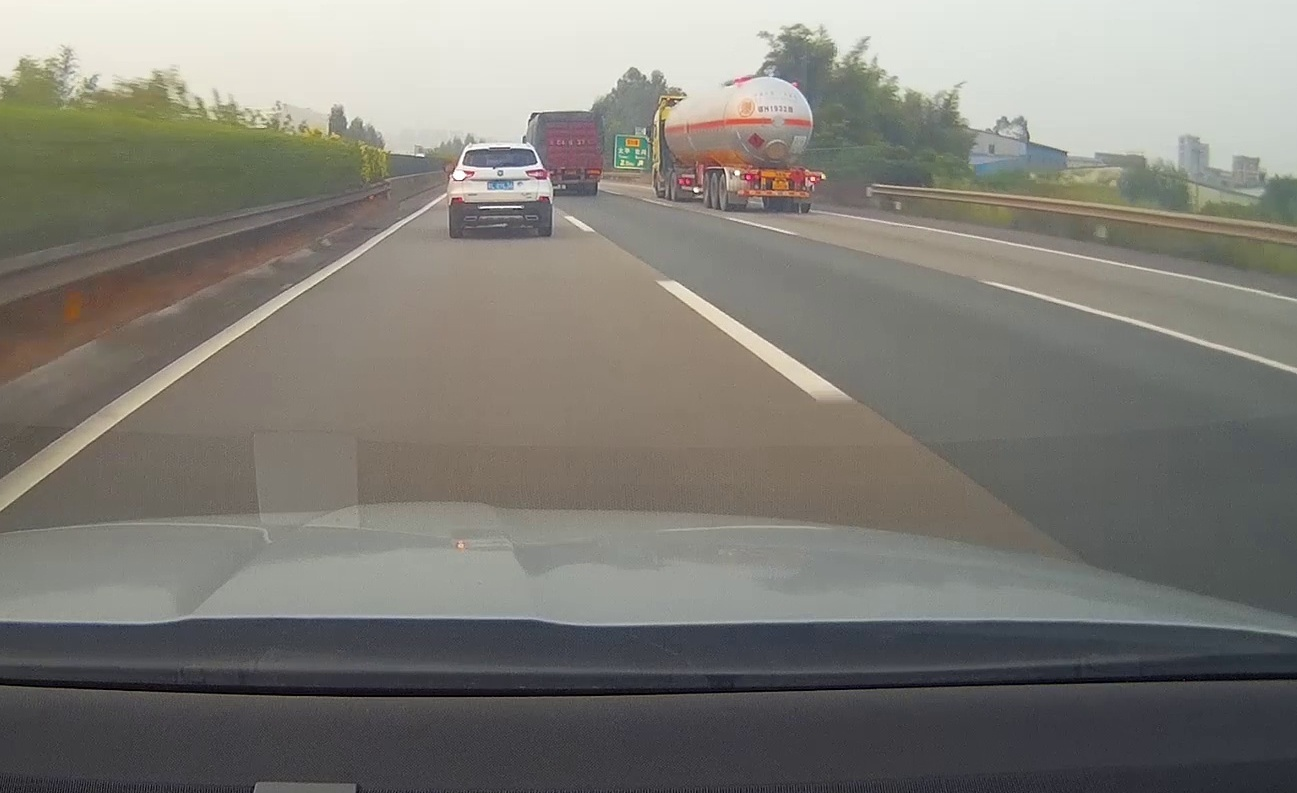L_light: (451, 168, 475, 182), (740, 174, 752, 180)
R_light: (525, 169, 548, 179), (810, 176, 820, 182)
T_light: (488, 146, 511, 150), (775, 170, 787, 174)
day-left: (448, 143, 552, 238)
day-no: (730, 165, 827, 213)
